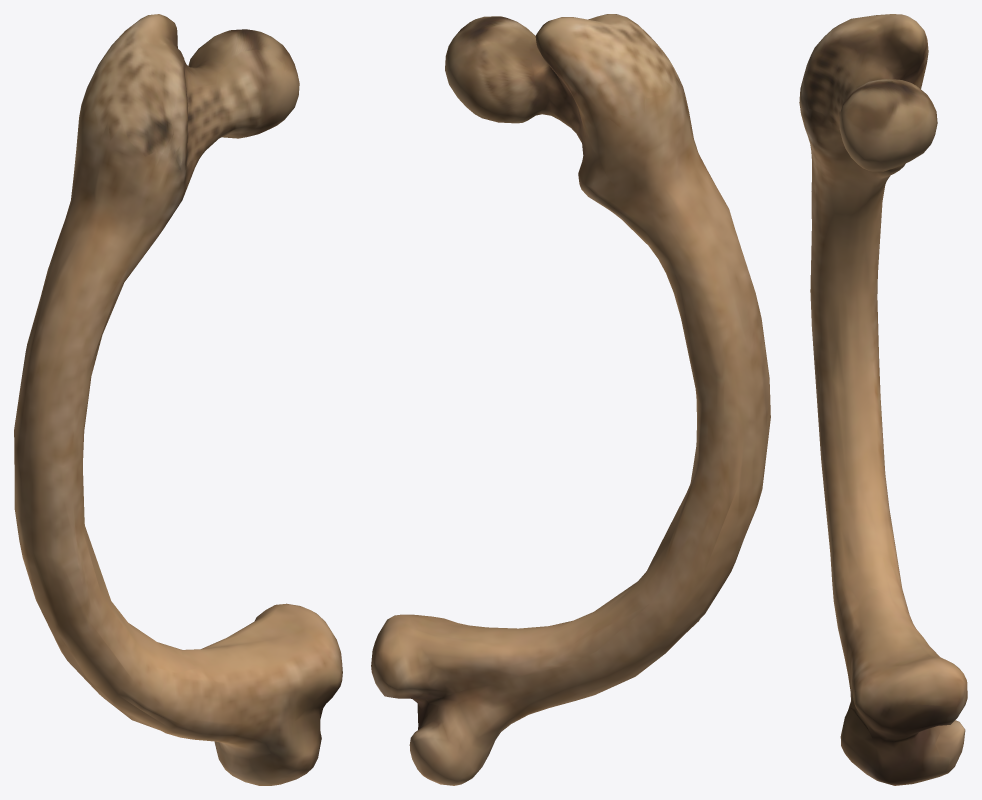
The model's file is Femur.glb.
3 renders of one model, left to right at view 1: azimuth 30°, elevation 25°; view 2: azimuth 150°, elevation 25°; view 3: azimuth 270°, elevation 25°, orthographic. The views are drawn at different scales.
Visible parts, largest first — view 1: R_femur.002; view 2: R_femur.002; view 3: R_femur.002.
Boxes of the visible parts, x1,y1,x2,y2 form: R_femur.002: (14,14,342,785); R_femur.002: (371,14,770,785); R_femur.002: (799,14,967,785).
Bounding box in the file's own units: 0.1919 × 0.4139 × 0.0882.
Materials: 1 (1 with a texture image).
